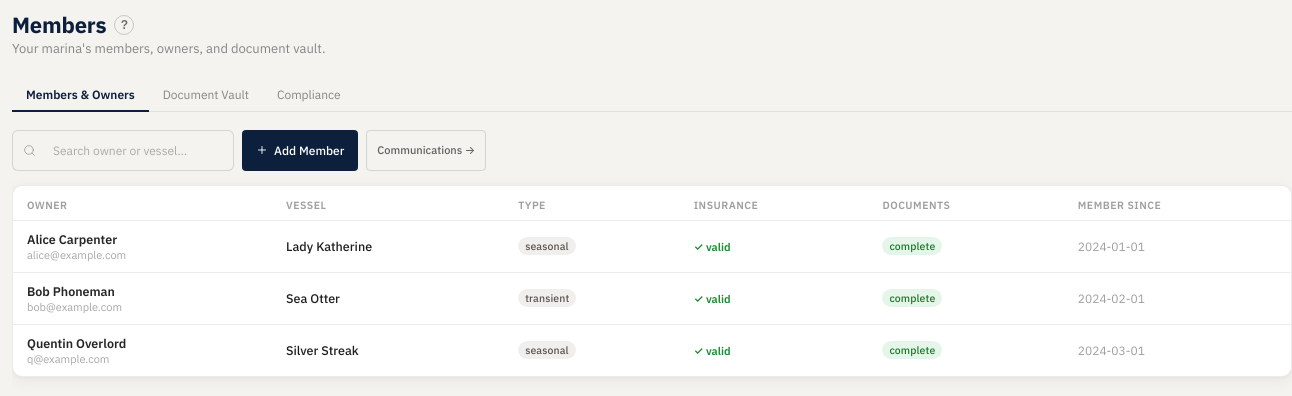
Members search input › filters the displayed list when the user types into the search input
Expected: the text "Alice Carpenter" is shown, x1=27 y1=231 x2=117 y2=247
Expected: the text "Bob Phoneman" is shown, x1=27 y1=283 x2=115 y2=299
Type "Overlord" into the field named "Search members" at (133, 150), box x1=43 y1=137 x2=223 y2=164
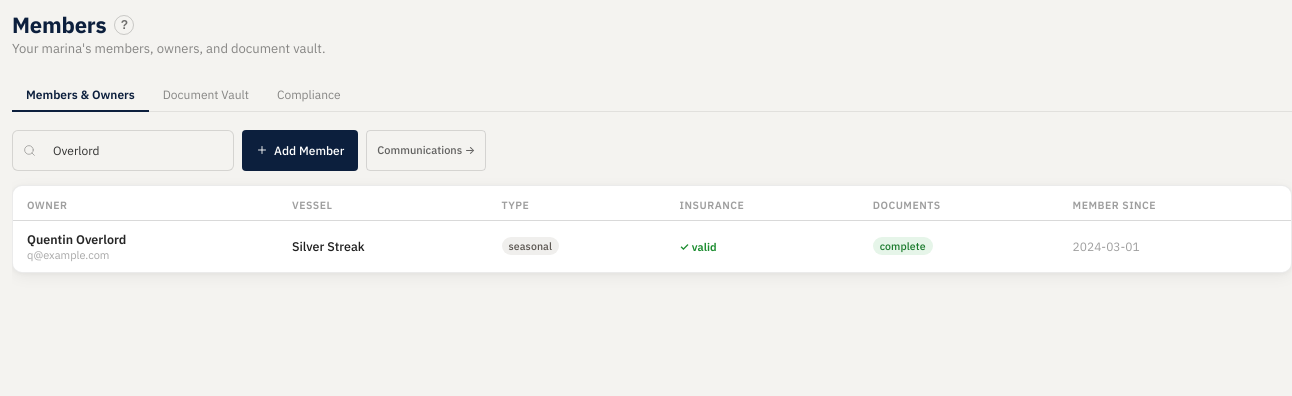
Expected: the text "Quentin Overlord" is shown, x1=27 y1=231 x2=126 y2=247
Now the text "Alice Carpenter" is gone
Now the text "Bob Phoneman" is gone
